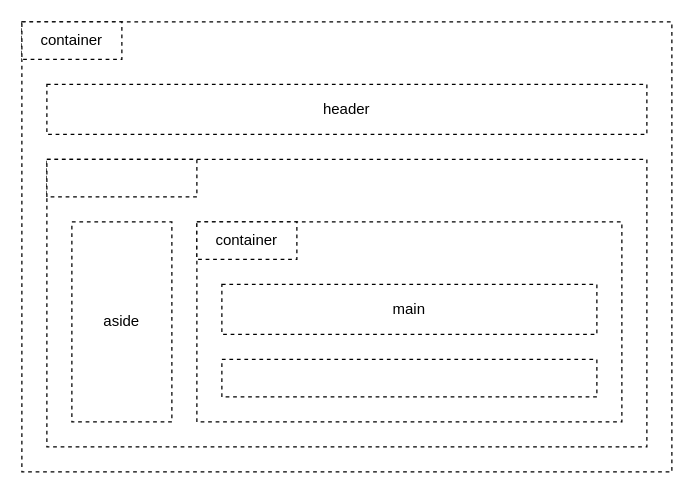
This 694x494 diagram has some shape labels left out. The centre of each missing label's shape, as x and y in pixels:
"container (aside)" goes at (x=121, y=177).
"footer" goes at (x=409, y=377).
